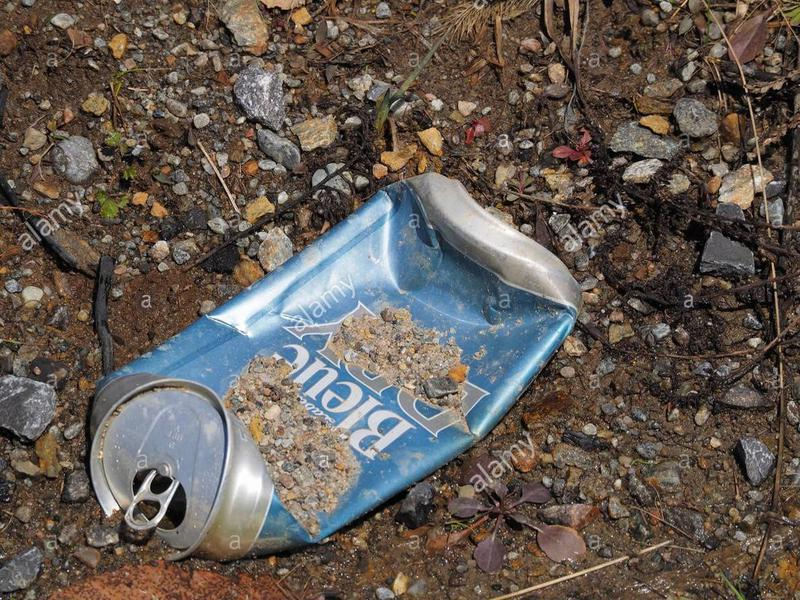can: (79, 162, 588, 564)
